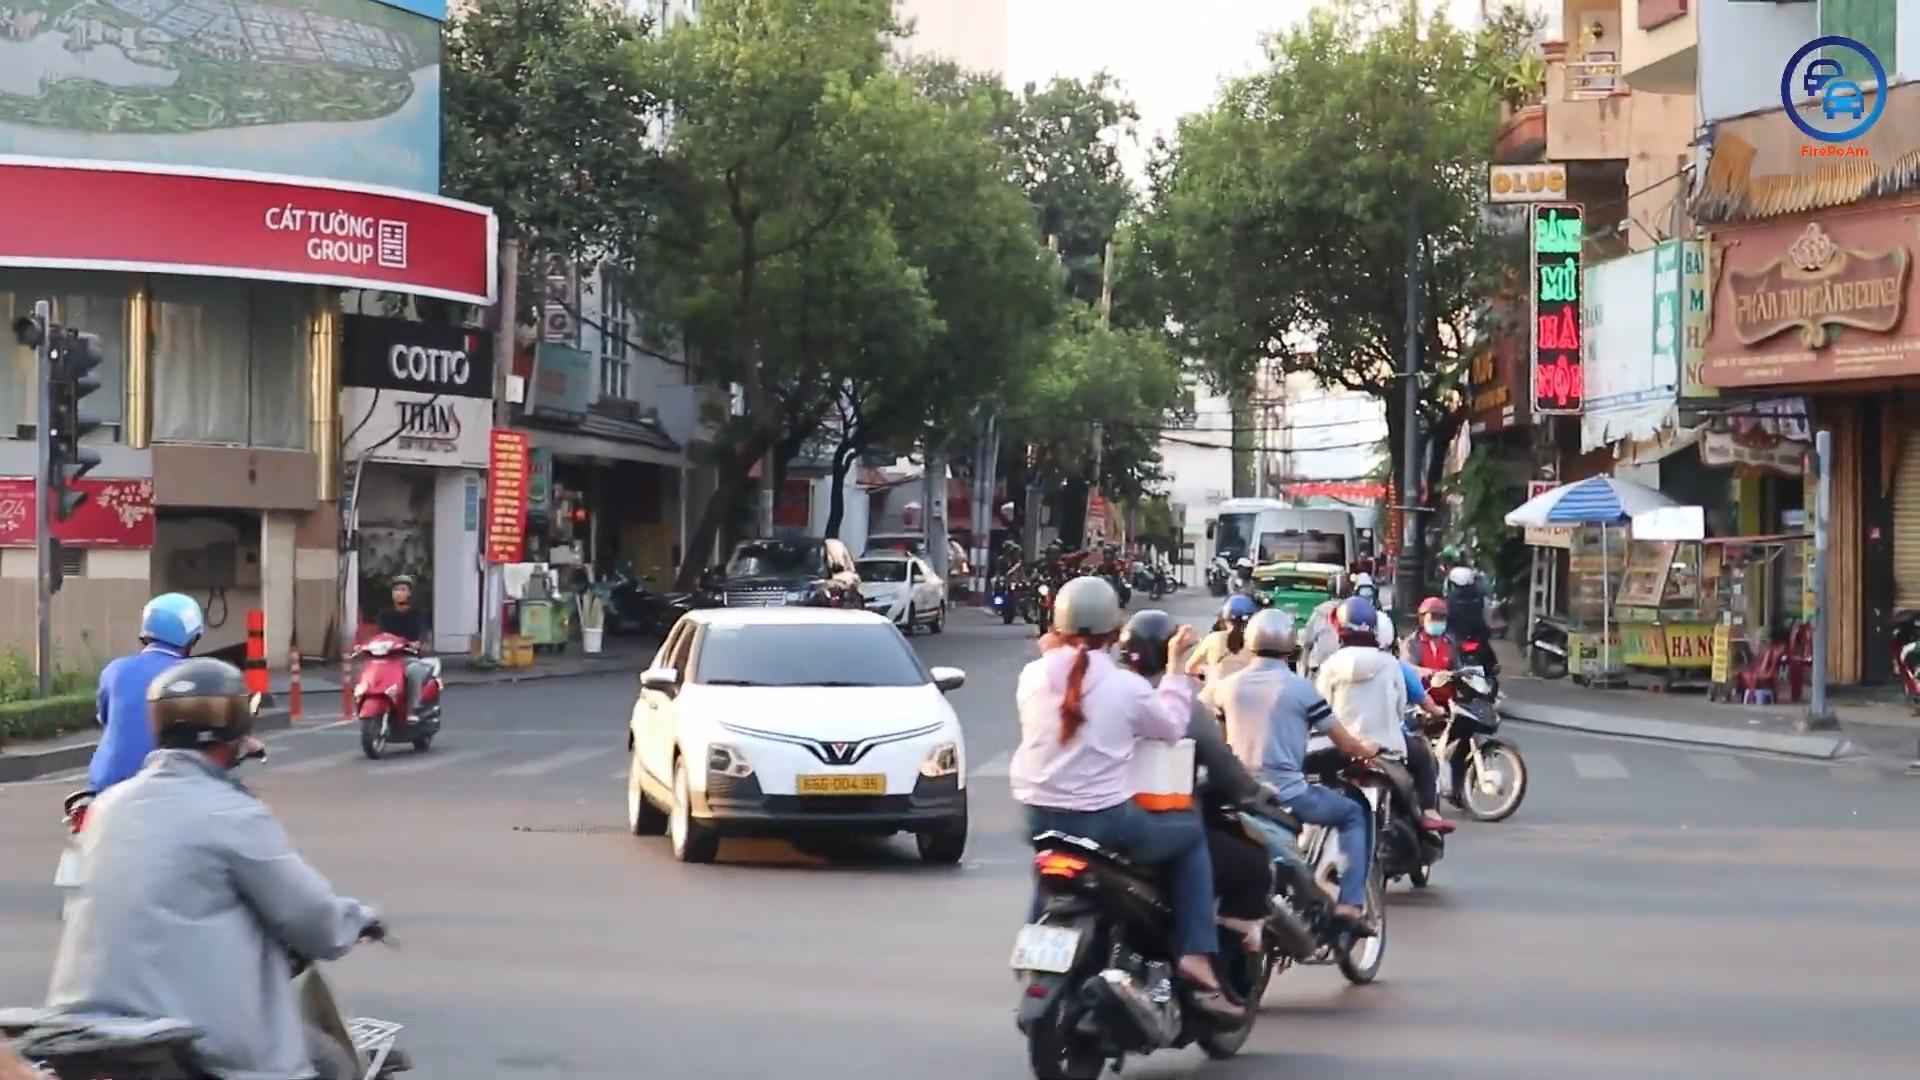bien_so: (1010, 922, 1082, 975), (794, 772, 888, 794)
